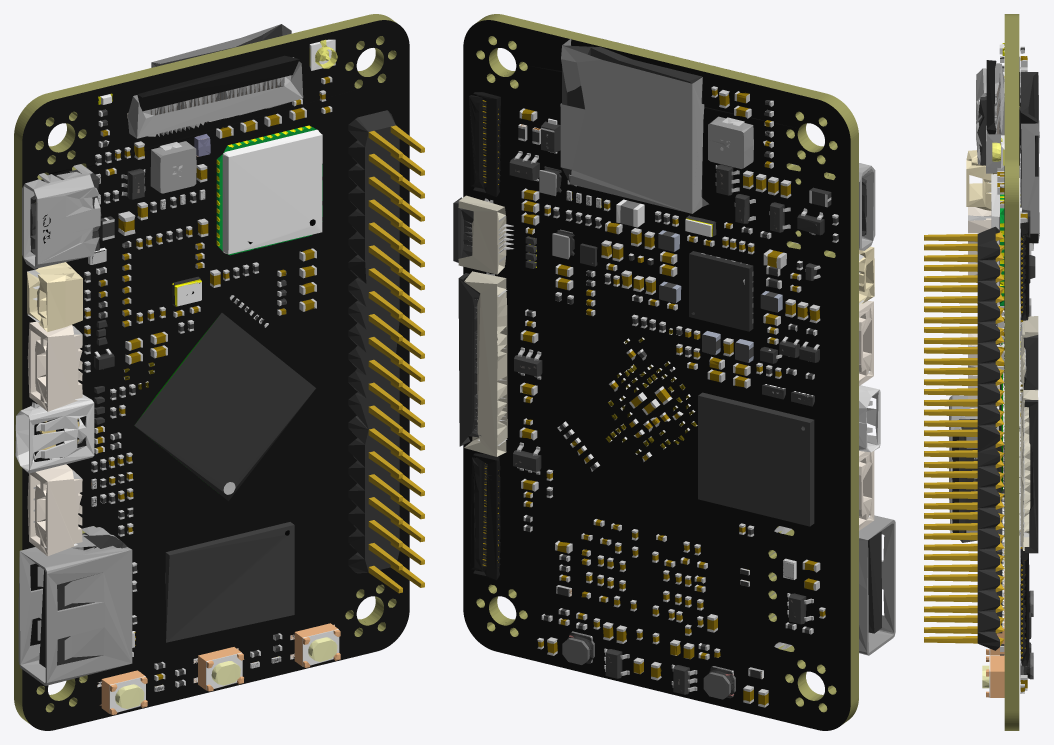
The model's file is preview.obj.
3 views of the same model, side by side, from view 1: azimuth 30°, elevation 25°; view 2: azimuth 150°, elevation 25°; view 3: azimuth 270°, elevation 25° (orthographic). The views are drawn at different scales.
Size of the model in its own units: 45.84 by 70.18 by 12.9.
